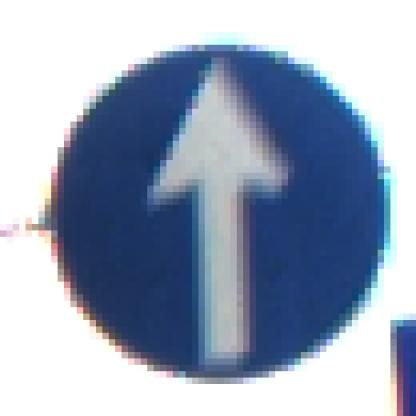AheadOnly: (39, 39, 385, 385)
